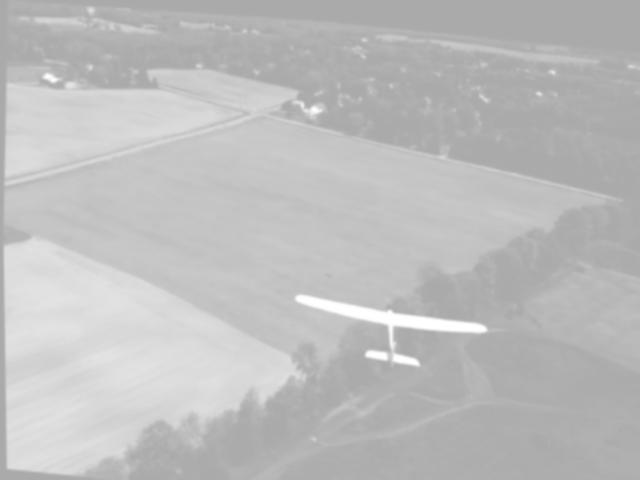hedef: (284, 277, 493, 384)
